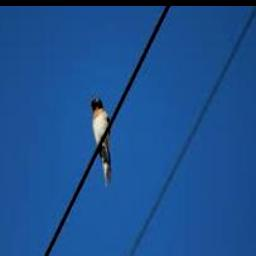Swallow: (91, 96, 113, 186)
